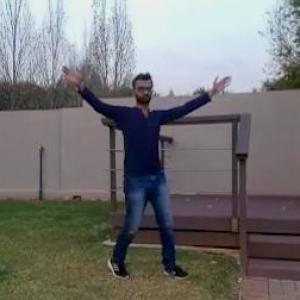takeoff: (58, 68, 228, 287)
